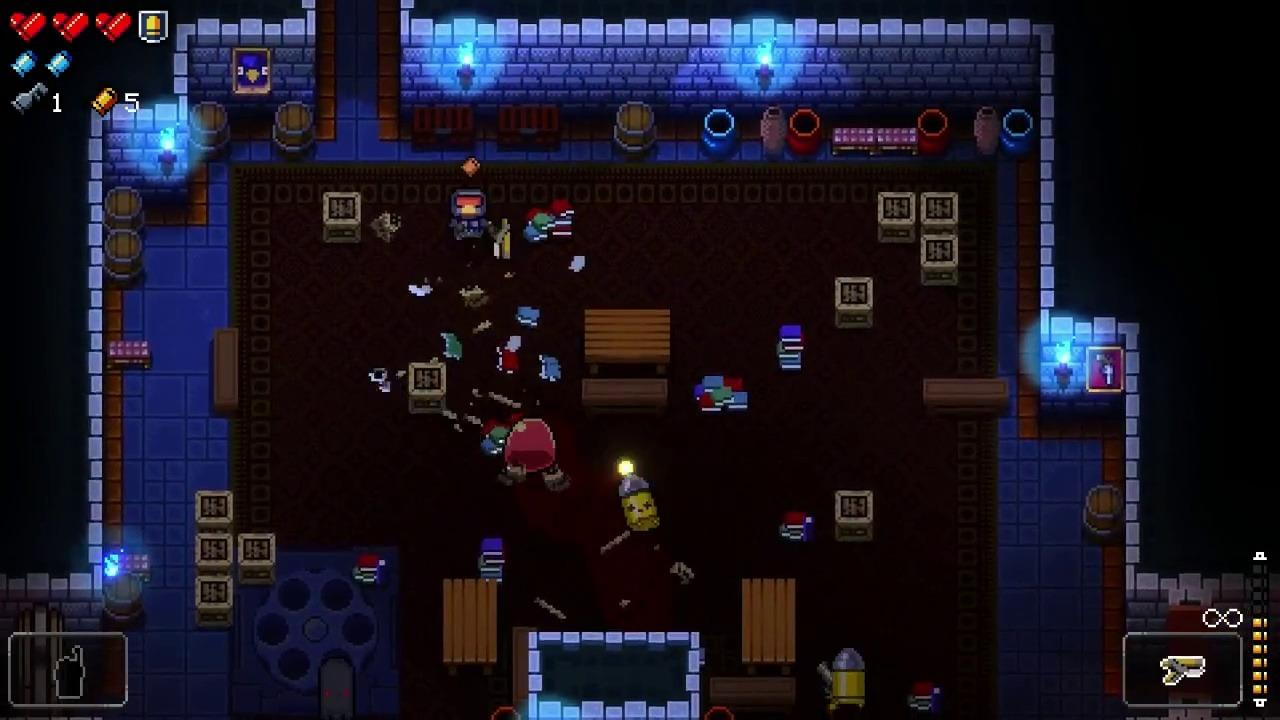blobulon_l: (505, 419, 556, 473)
bullet_kin: (832, 646, 867, 710)
dead_bullet_kin: (619, 474, 661, 532)
hollowpoint: (318, 657, 355, 720)
player: (449, 189, 488, 241)
table: (585, 307, 670, 374), (741, 578, 797, 674), (444, 580, 497, 677)
teleporter: (230, 546, 401, 715)
